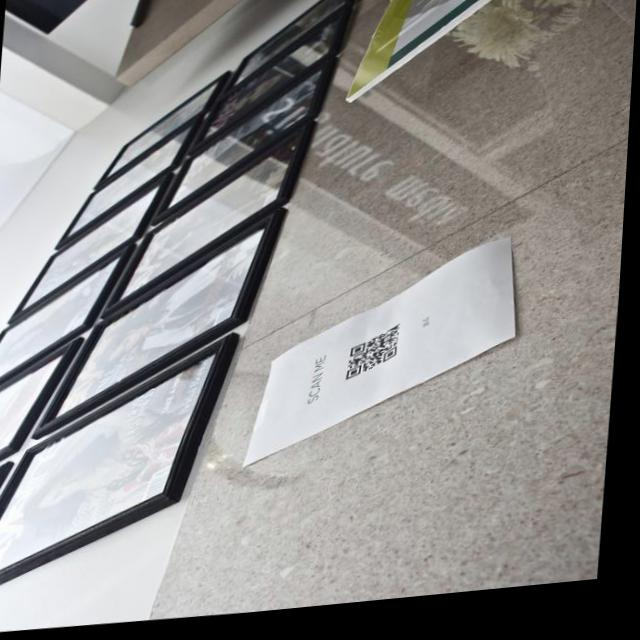qrcode: (351, 331, 405, 389)
